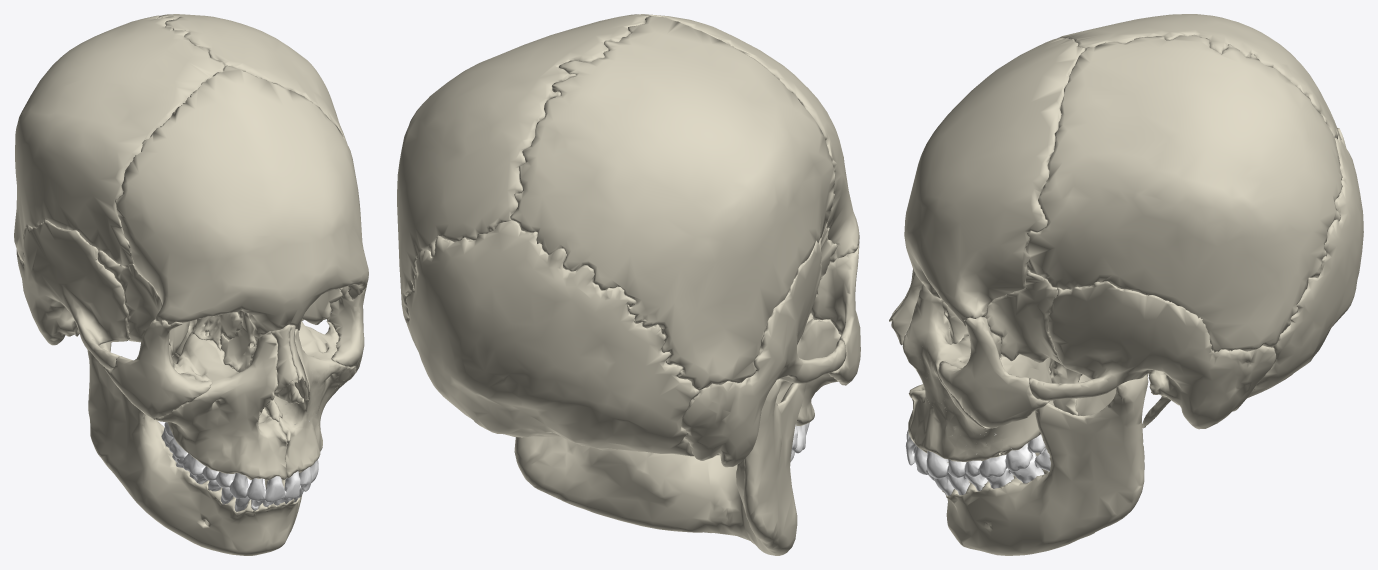
Rendered from SkullDecimated.glb.
3 renders of one model, left to right at view 1: azimuth 30°, elevation 25°; view 2: azimuth 150°, elevation 25°; view 3: azimuth 270°, elevation 25°, orthographic. The views are drawn at different scales.
Visible parts, largest first — view 1: Left_zygomatic, Teeth; view 2: Left_zygomatic; view 3: Left_zygomatic, Teeth.
Part boxes in pixels (x1=…): Left_zygomatic: x1=14, y1=14, x2=368, y2=555; Teeth: x1=161, y1=421, x2=318, y2=511; Left_zygomatic: x1=397, y1=14, x2=860, y2=555; Left_zygomatic: x1=889, y1=14, x2=1363, y2=555; Teeth: x1=905, y1=430, x2=1050, y2=495.
Size of the model in its own units: 13.84 by 20.75 by 17.5.
